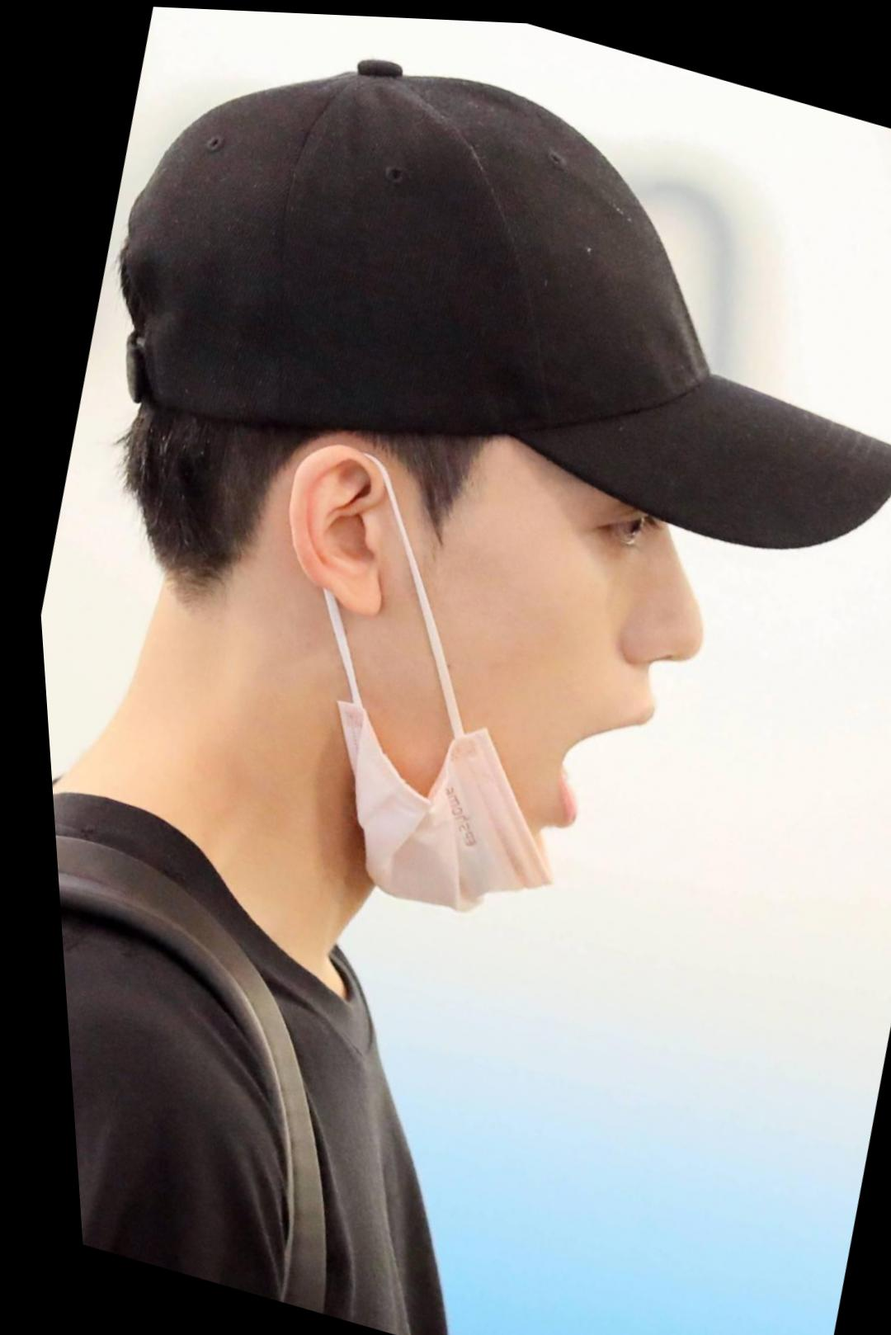WRONG: (341, 366, 763, 894)
